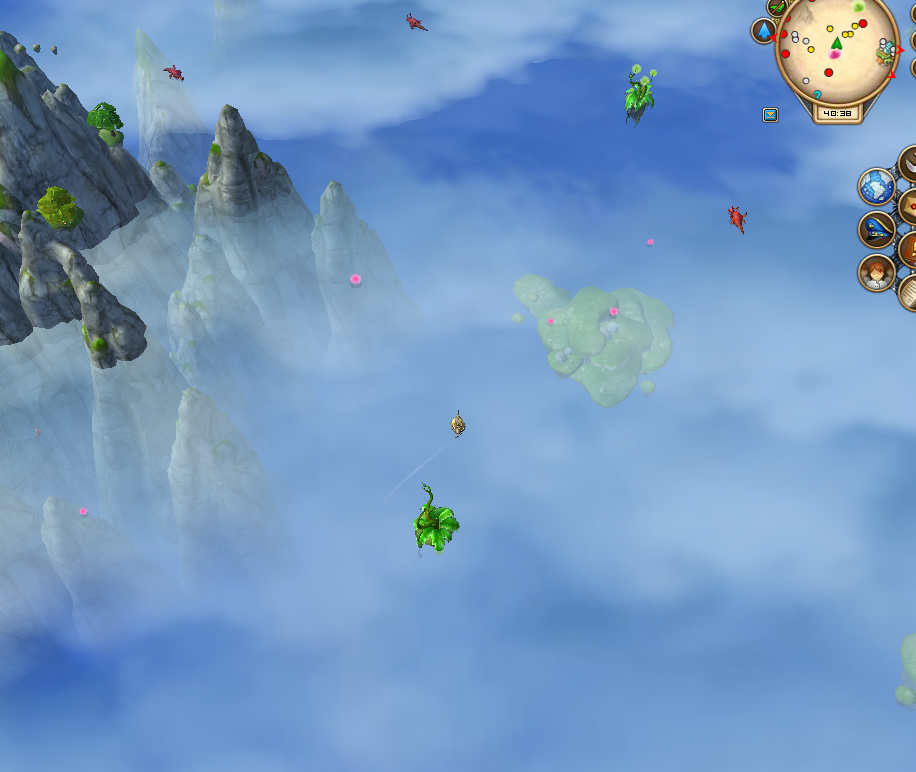dandelion-empty: (406, 480, 465, 557)
dandelion-full: (622, 59, 659, 126)
fluff: (345, 271, 366, 291), (73, 503, 91, 518), (643, 238, 655, 250)
